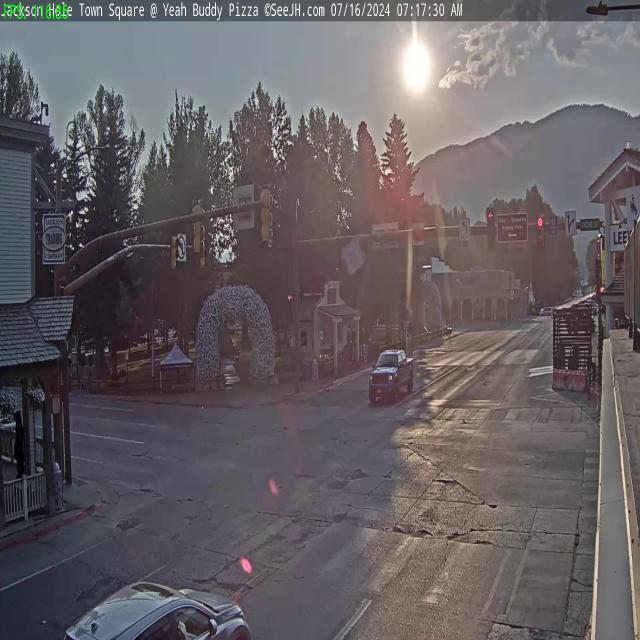pickup: (368, 344, 414, 406)
suv: (60, 572, 258, 639)
traffic light: (190, 199, 204, 256), (260, 184, 273, 245), (486, 208, 496, 251), (170, 233, 179, 276), (536, 215, 544, 248)
